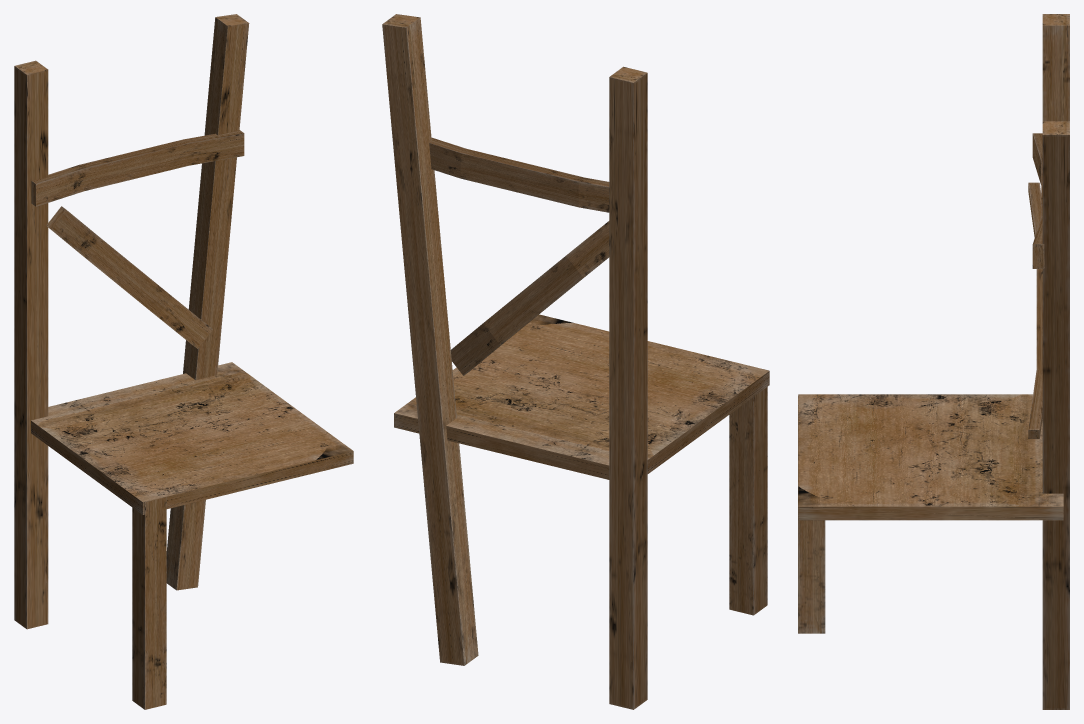
The model's file is cadeira_DeMadeira_TEXTURIZADA.fbx.
3 renders of one model, left to right at view 1: azimuth 30°, elevation 25°; view 2: azimuth 150°, elevation 25°; view 3: azimuth 270°, elevation 25°, orthographic. The views are drawn at different scales.
Parts seen in each view (by area): view 1: Cube.078; view 2: Cube.078; view 3: Cube.078.
Part boxes in pixels (<box>): Cube.078: <box>14,14,353,709</box>; Cube.078: <box>382,14,769,709</box>; Cube.078: <box>798,14,1069,709</box>.
Size of the model in its own units: 65.01 by 155 by 63.07.
1 material, 1 textured.
